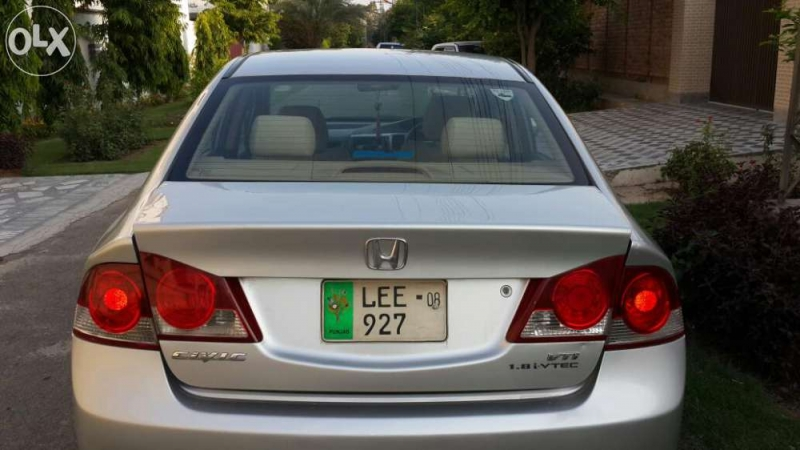Number Plate (Car): (319, 278, 449, 343)
